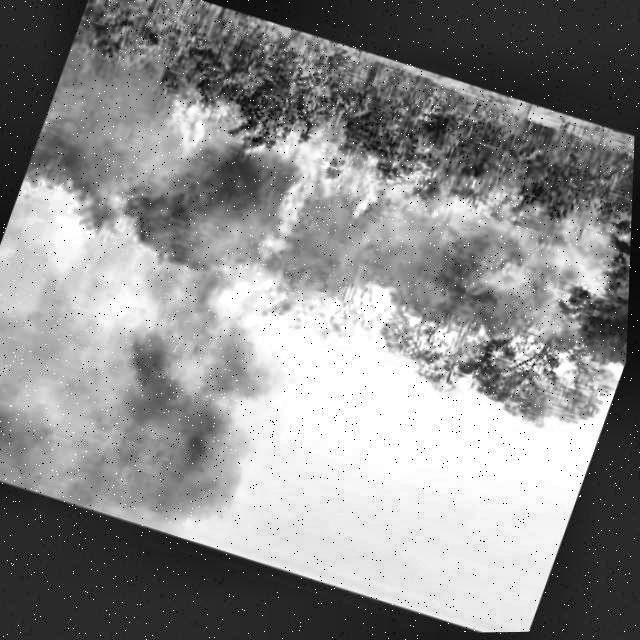Fire: (243, 110, 516, 329), (149, 87, 229, 161)
Smoke: (0, 280, 288, 537)
